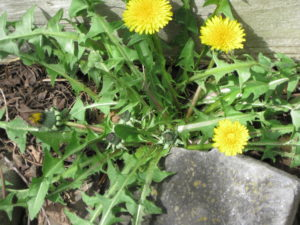dandelion: (198, 14, 246, 54), (123, 1, 176, 35), (212, 119, 252, 151)
